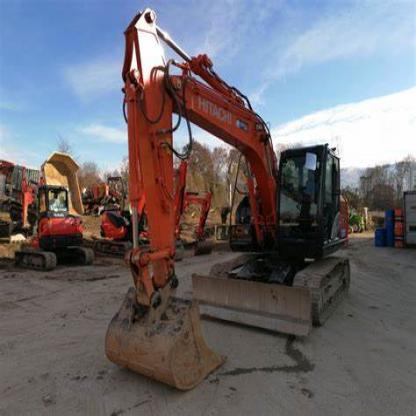excavator: (101, 8, 371, 395)
